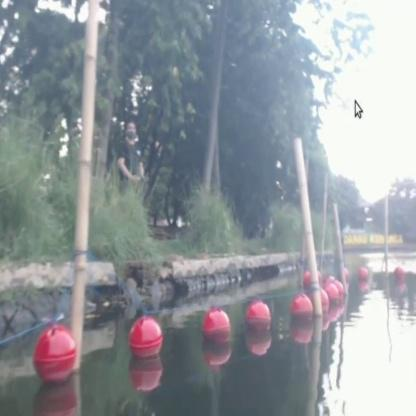red_buoy: (32, 325, 78, 383), (130, 316, 162, 362), (203, 309, 232, 352), (242, 301, 270, 344), (292, 293, 314, 327), (328, 277, 347, 313), (321, 290, 330, 321), (360, 264, 367, 283)
